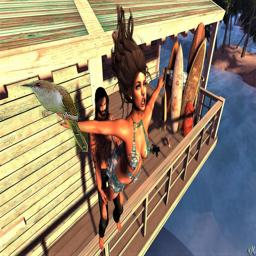Cuckoo: (20, 80, 88, 152)
